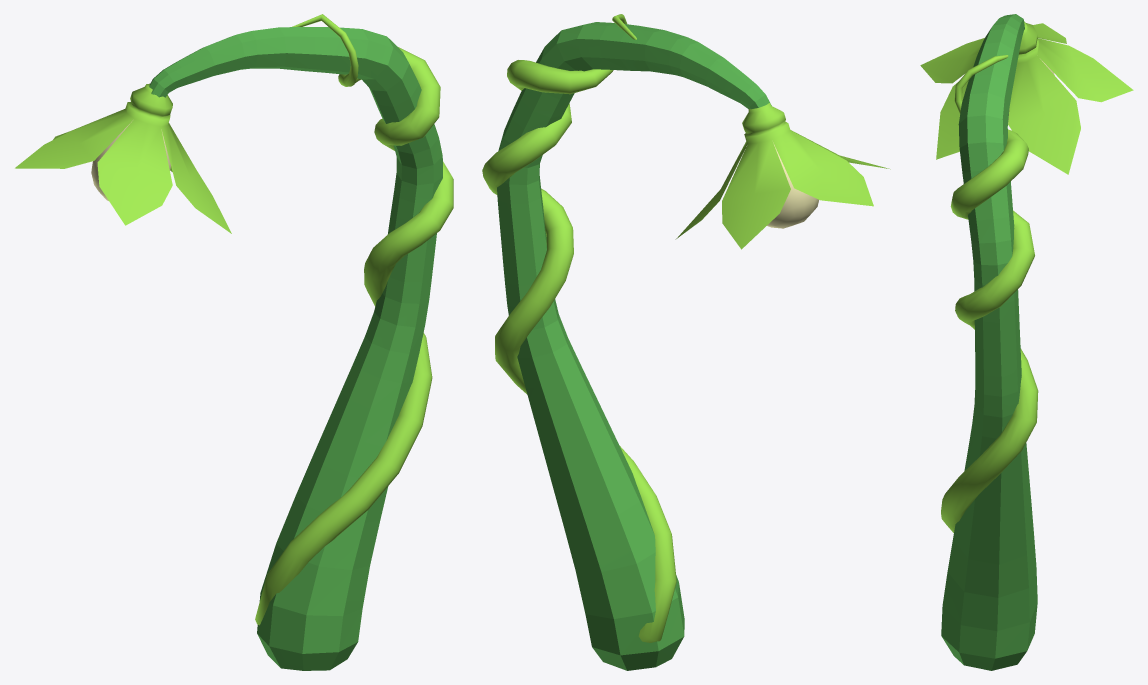
File: Lamp2-optimized.glb
3 renders of one model, left to right at view 1: azimuth 30°, elevation 25°; view 2: azimuth 150°, elevation 25°; view 3: azimuth 270°, elevation 25°, orthographic. The views are drawn at different scales.
Visible parts, largest first — view 1: Vert, NurbsPath.004, Plane.010; view 2: Vert, NurbsPath.004, Plane.010, bulb; view 3: Vert, Plane.010, NurbsPath.004.
Part boxes in pixels (x1,y1,x2,y2): Vert: (149, 27, 442, 670); NurbsPath.004: (255, 14, 453, 625); Plane.010: (15, 83, 231, 233); Vert: (497, 22, 771, 670); NurbsPath.004: (482, 14, 676, 642); Plane.010: (675, 103, 890, 249); bulb: (767, 142, 818, 228); Vert: (941, 14, 1037, 670); Plane.010: (920, 21, 1133, 174); NurbsPath.004: (941, 55, 1038, 532).
Size of the model in its own units: 0.7997 by 1.2 by 0.3778.
